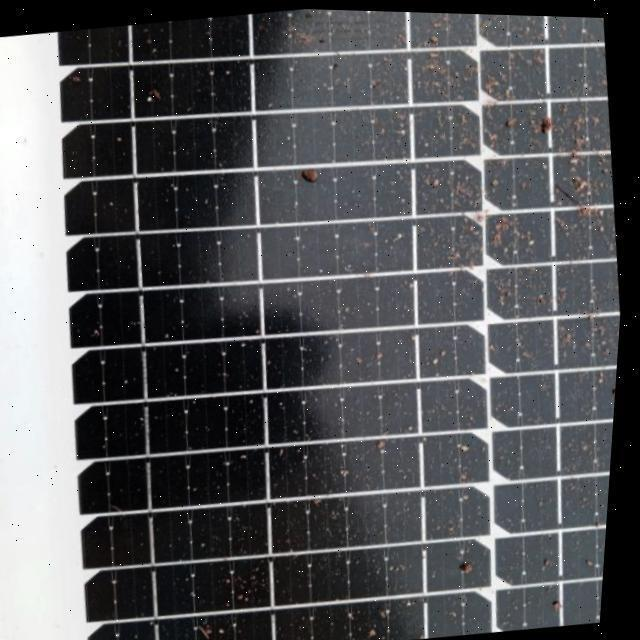Surface Contaminant: (47, 7, 612, 640)
